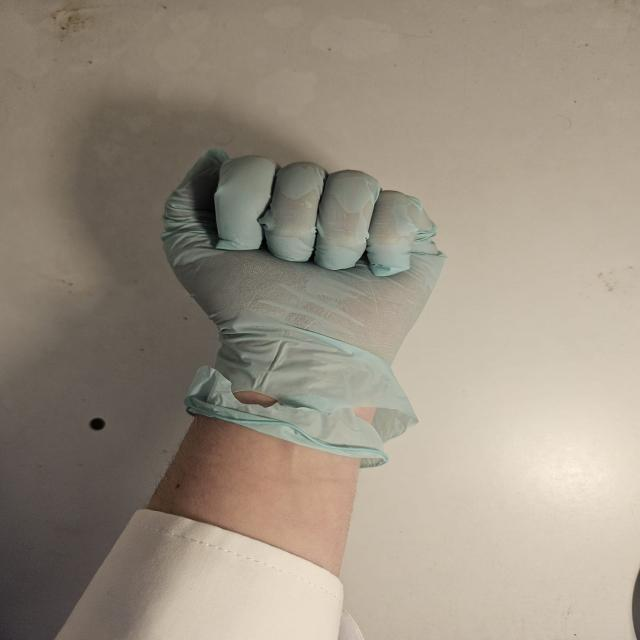gloves_damaged: (160, 146, 450, 468)
